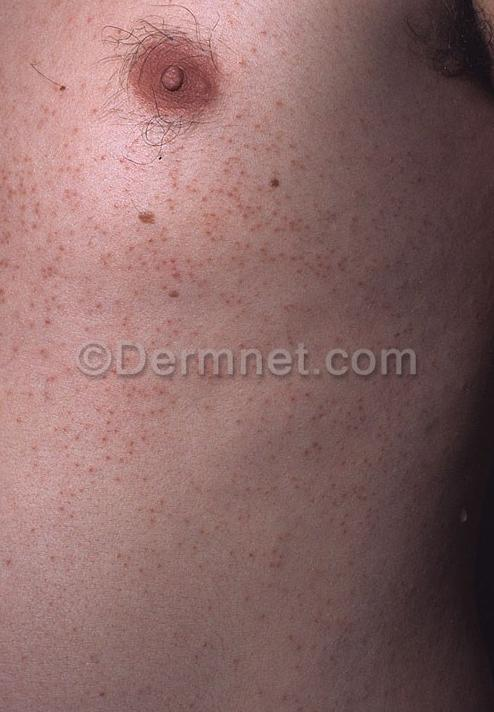edema 1: (0, 127, 453, 595)
